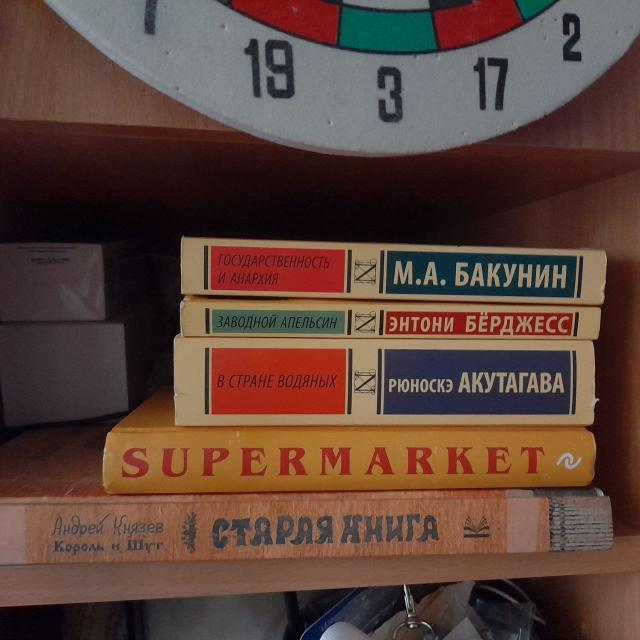book-s-spine: (0, 496, 611, 564), (174, 338, 594, 426), (181, 237, 607, 306), (106, 432, 593, 492), (181, 302, 601, 340)
